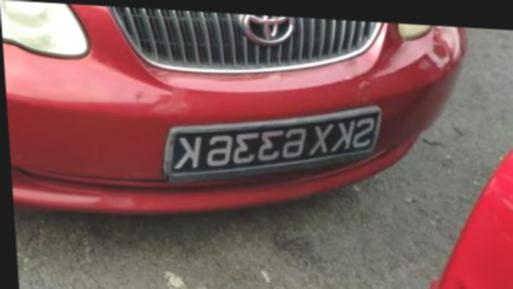License_Plate: (154, 89, 393, 200)
